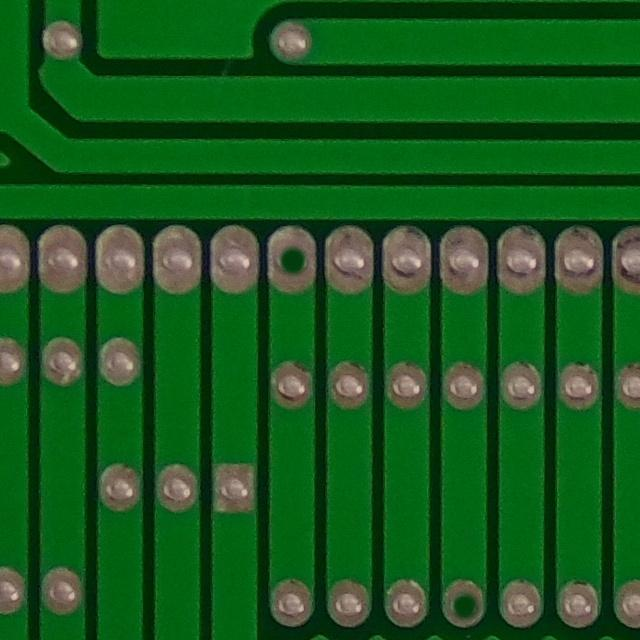missing_hole: (268, 224, 321, 293), (435, 575, 495, 635)
